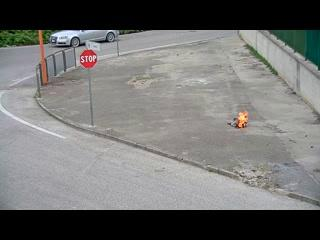fire: (233, 110, 252, 129)
